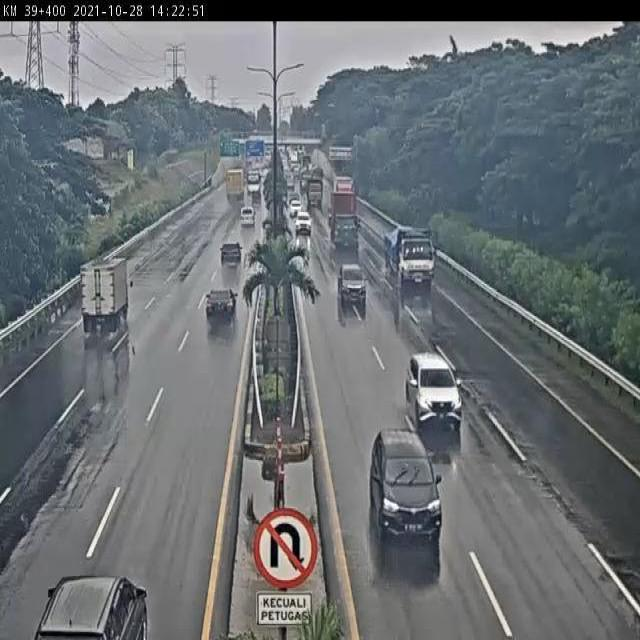truck-l-: (384, 226, 436, 294)
truck-m-: (81, 259, 134, 336)
truck-xl-: (330, 190, 362, 250)
